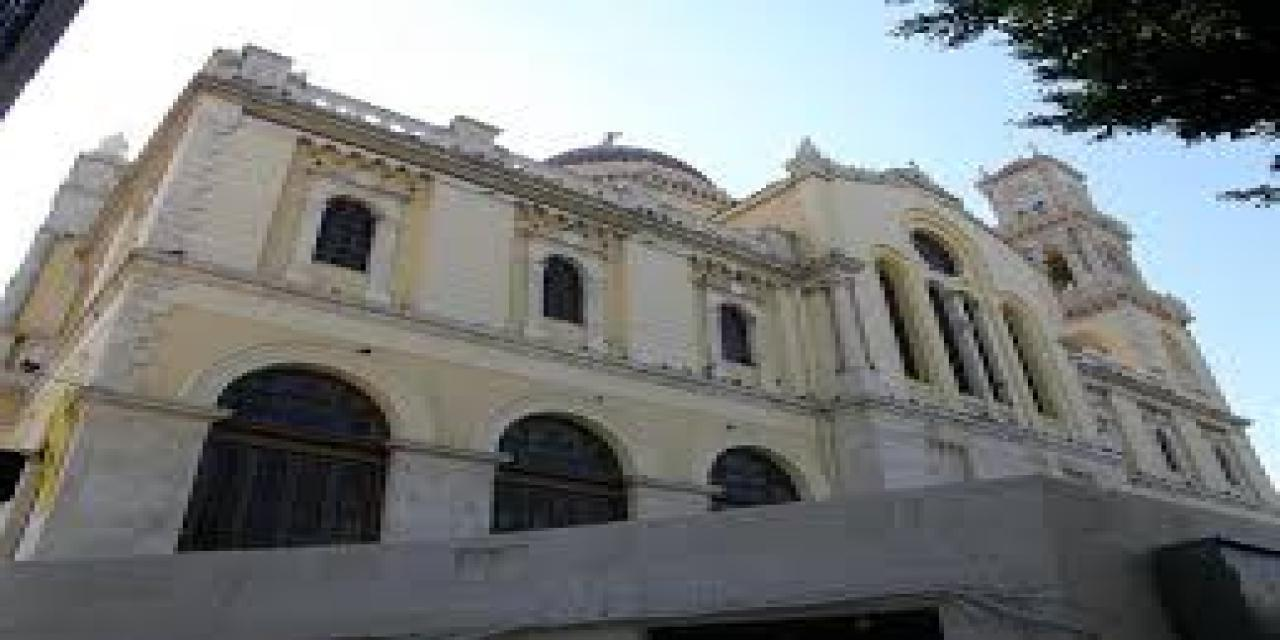Agios Minas: (2, 42, 1277, 640)
